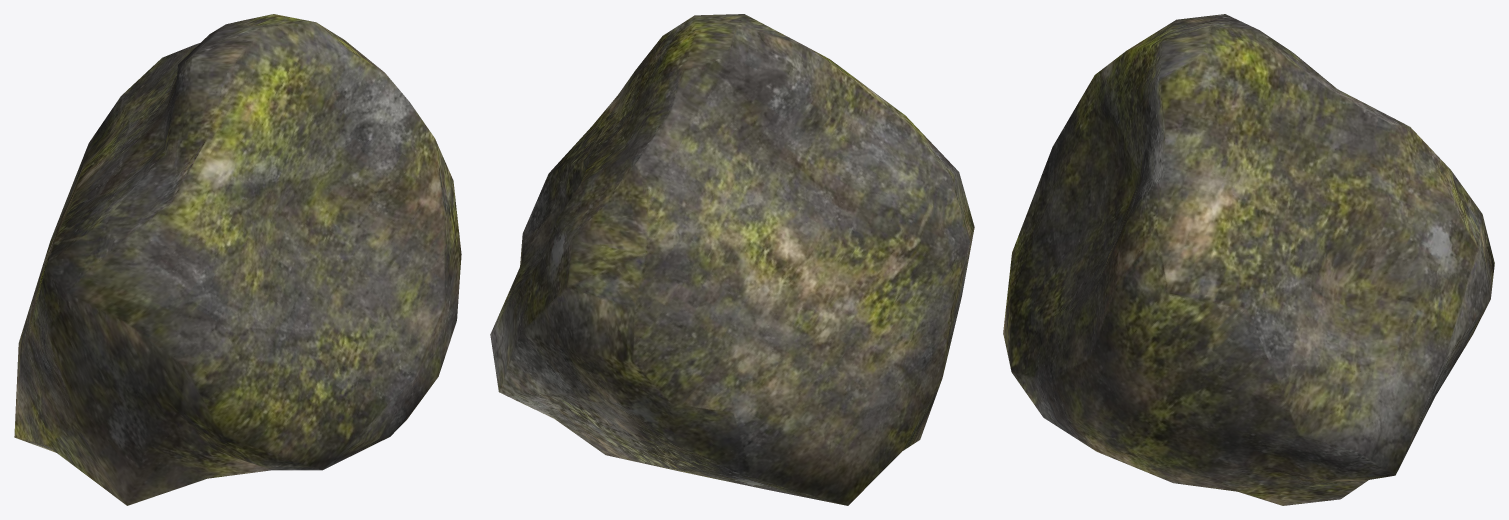
Rendered from Rock.fbx.
3 renders of one model, left to right at view 1: azimuth 30°, elevation 25°; view 2: azimuth 150°, elevation 25°; view 3: azimuth 270°, elevation 25°, orthographic. The views are drawn at different scales.
Parts seen in each view (by area): view 1: Rock; view 2: Rock; view 3: Rock.
Boxes of the visible parts, x1,y1,x2,y2 form: Rock: (14, 14, 461, 505); Rock: (490, 14, 974, 505); Rock: (1003, 14, 1494, 505).
Bounding box in the file's own units: 100 × 100 × 100.
Materials: 1 (1 with a texture image).
